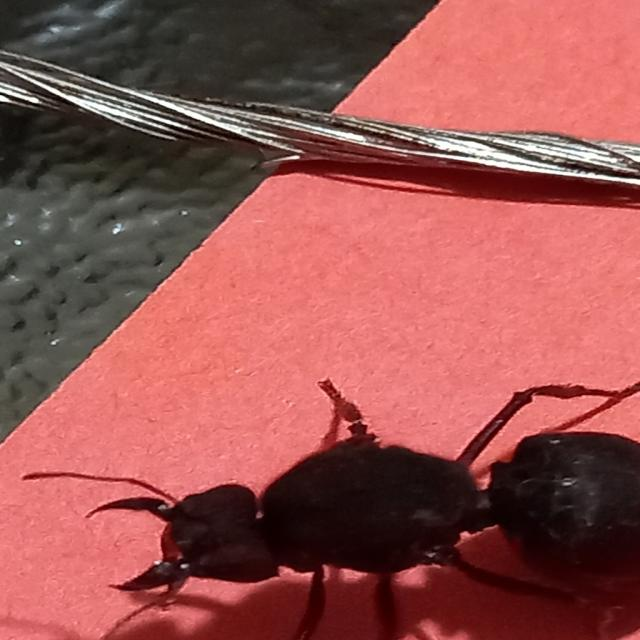Alive-Female-Dealate: (19, 376, 640, 640)
